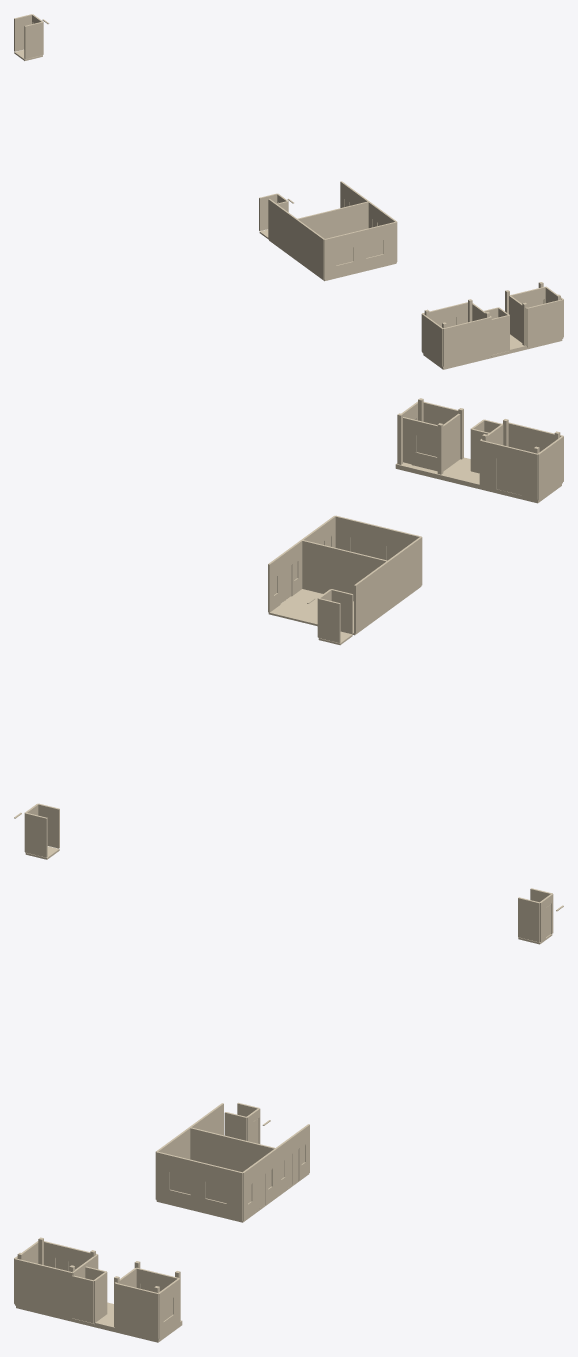
File: penunjang.glb
The picture shows the model from 3 angles, top to bottom: view 1: azimuth 30°, elevation 25°; view 2: azimuth 150°, elevation 25°; view 3: azimuth 330°, elevation 25°; orthographic projection. The views are drawn at different scales.
Visible parts, largest first — view 1: penunjang; view 2: penunjang; view 3: penunjang.
Boxes of the visible parts, x1=… form: penunjang: x1=14, y1=14, x2=563, y2=369; penunjang: x1=14, y1=398, x2=563, y2=859; penunjang: x1=14, y1=888, x2=563, y2=1342.
Bounding box in the file's own units: 10.13 × 3.58 × 62.16.
